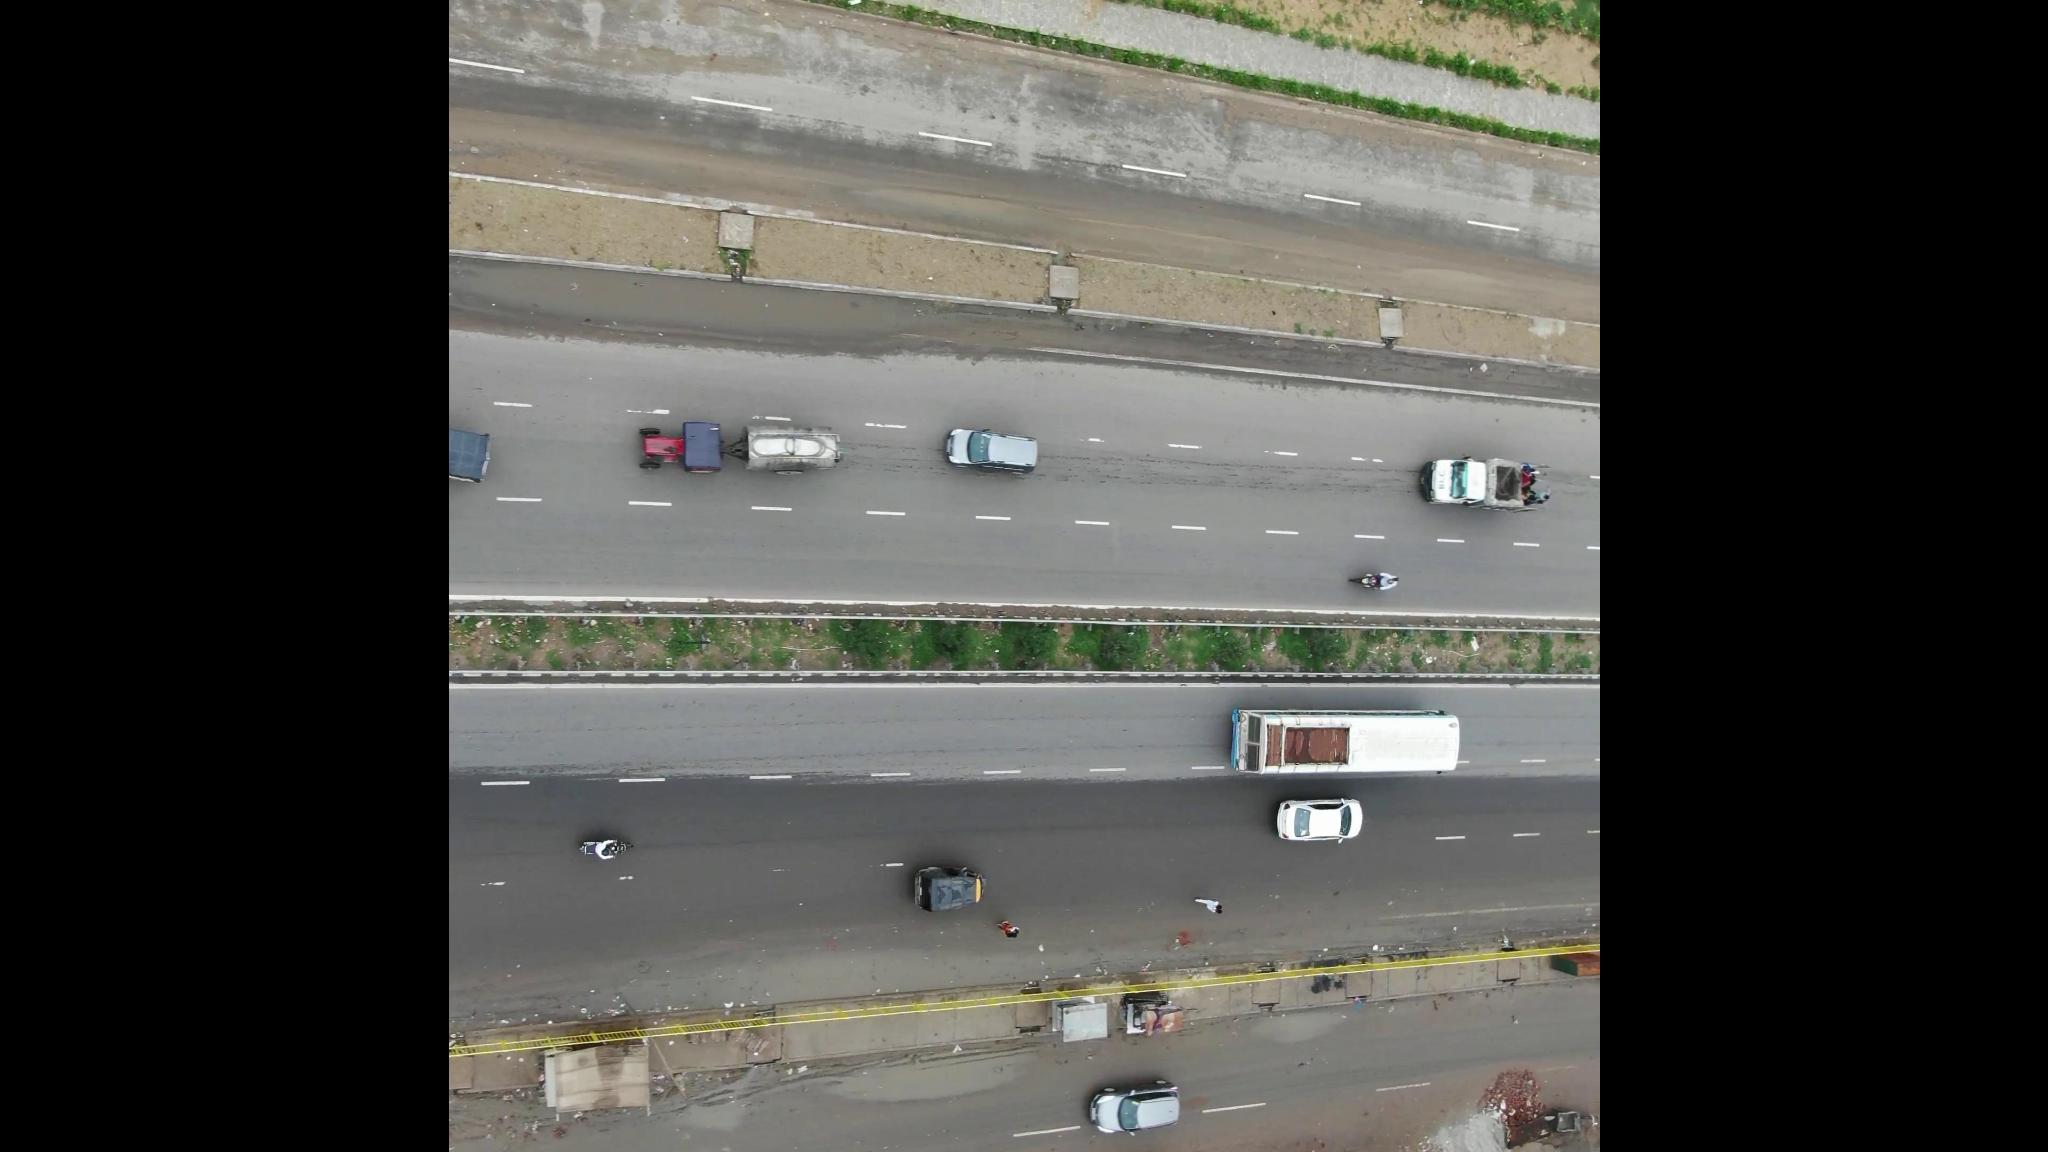Muddy_road: (609, 940, 1054, 1011), (1108, 890, 1431, 985), (885, 167, 1149, 248), (1175, 211, 1414, 300), (1431, 236, 1601, 328), (575, 138, 861, 188)
Potholes: (484, 1, 755, 105)
Ravelling: (1056, 437, 1377, 505)
Waterlogging: (692, 1035, 1025, 1139), (1243, 996, 1371, 1059)
